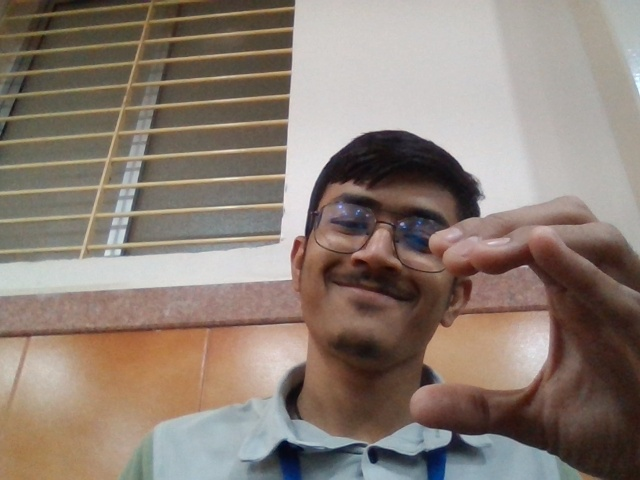No: (395, 172, 639, 480)
